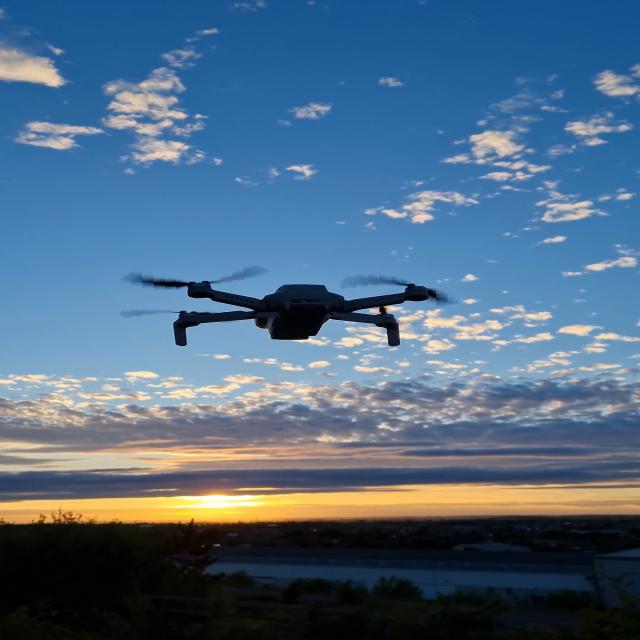Drone: (137, 248, 450, 366)
